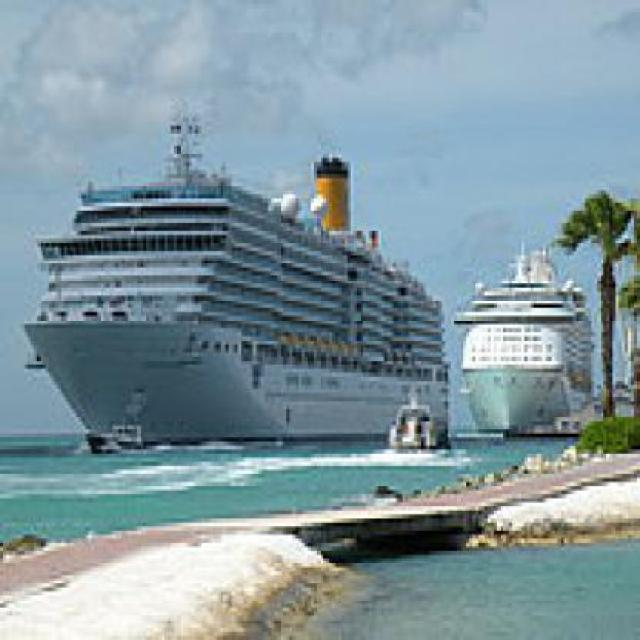cruise: (13, 94, 461, 459), (452, 243, 613, 459)
